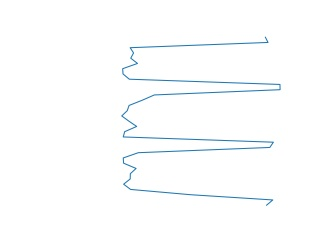majorRiverChannelBar: (118, 35, 283, 207)
